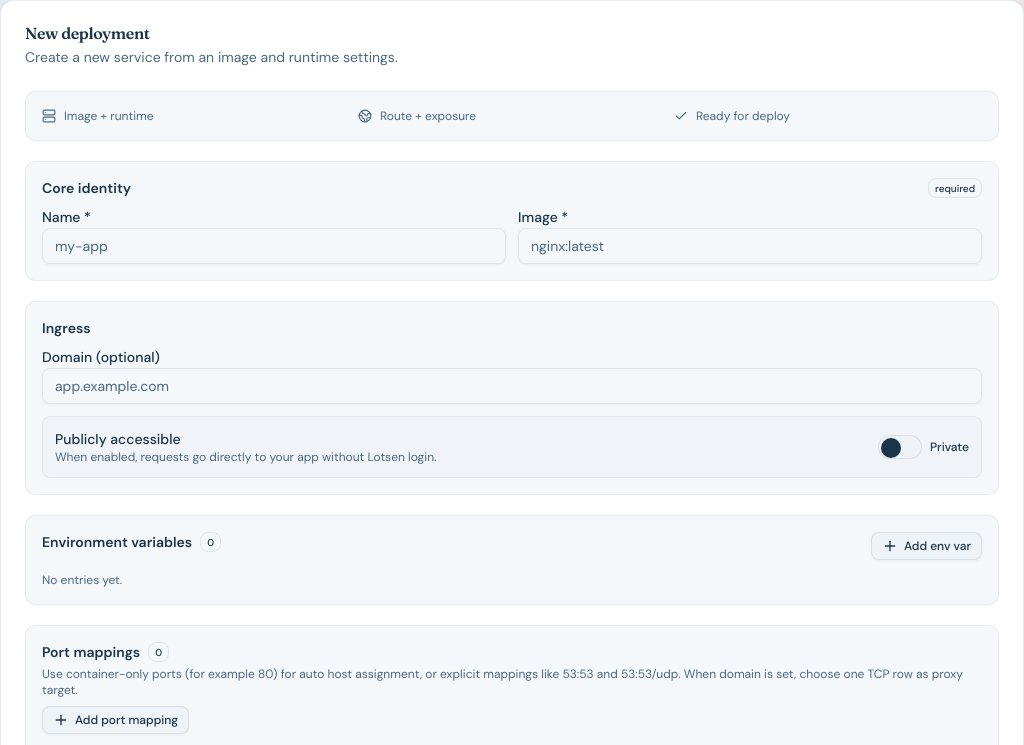
CreateDeploymentForm › adds and removes an env var row
Click the button "Add env var": (926, 546) top-left (871, 532), bottom-right (982, 560)
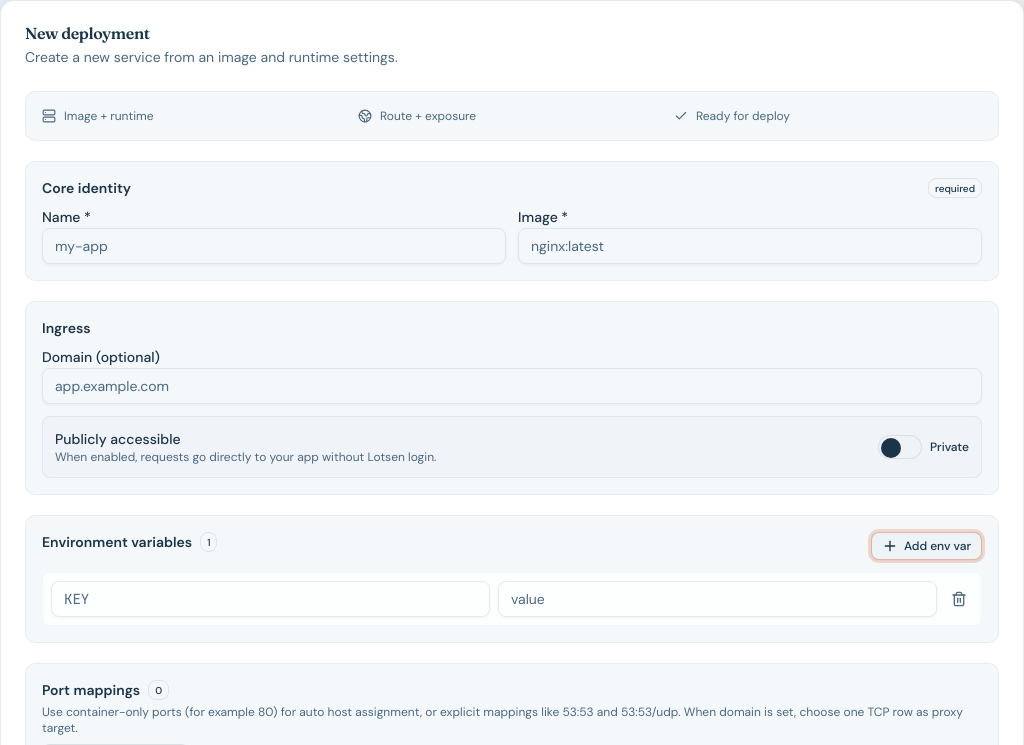
Check: the field with placeholder "KEY" is shown, box top-left (51, 581), bottom-right (490, 617)
Click the button named "remove env var": (959, 599) top-left (945, 585), bottom-right (973, 613)
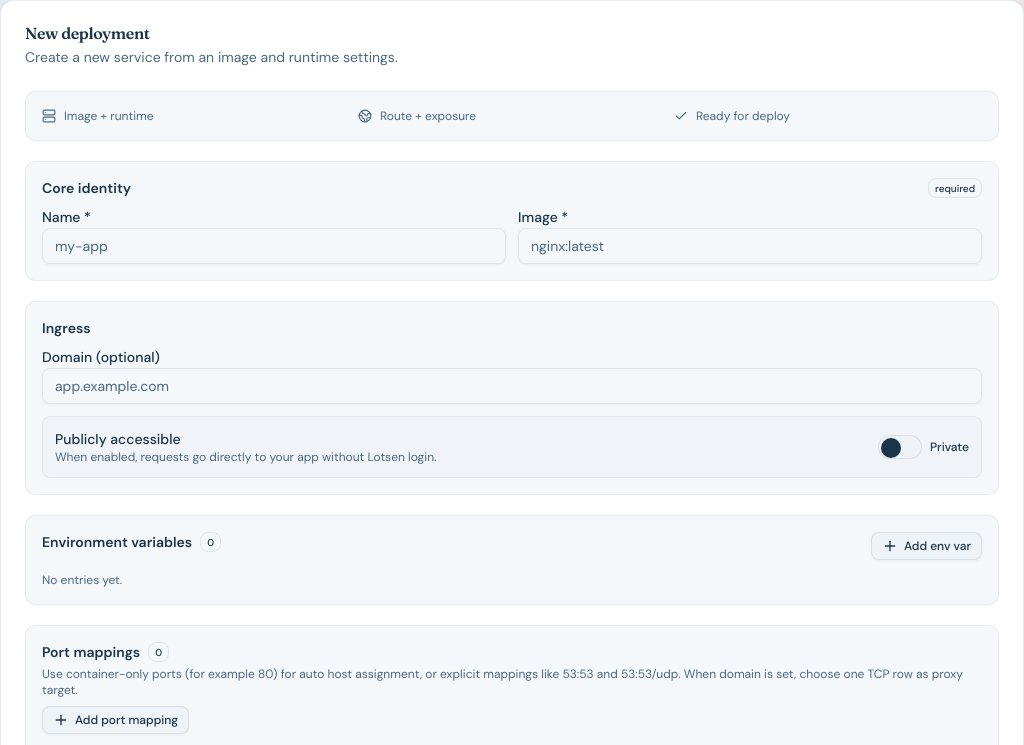
Check: the field with placeholder "KEY" is gone
